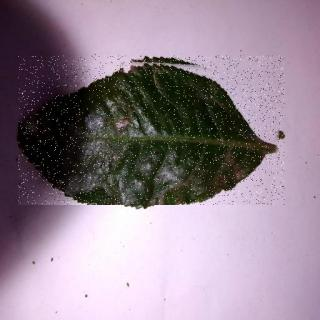Bird Eye Spot: (19, 57, 285, 206)
